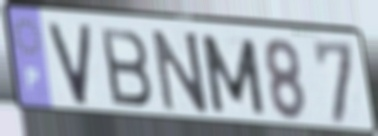7: (310, 36, 356, 127)
8: (261, 35, 309, 122)
B: (98, 25, 155, 110)
M: (197, 31, 269, 118)
N: (149, 27, 212, 115)
V: (45, 20, 94, 109)
